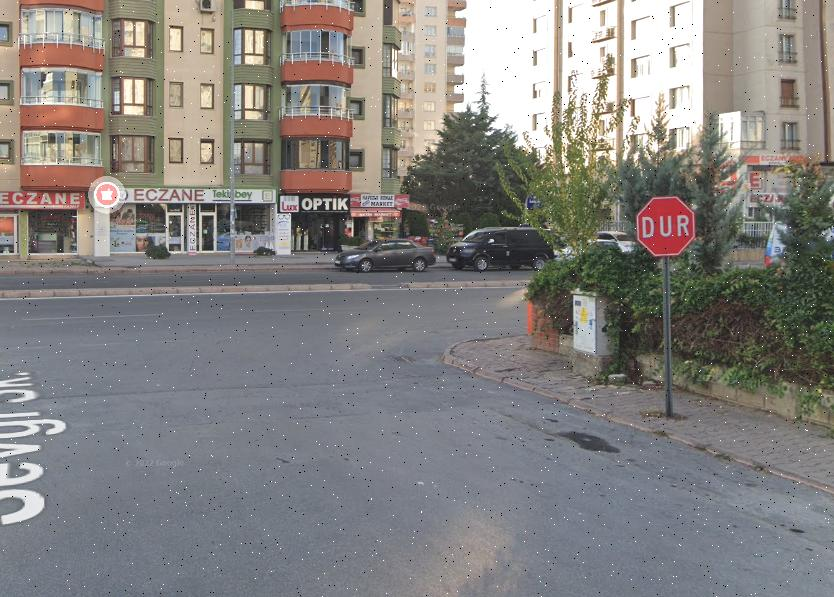stop: (640, 193, 694, 264)
